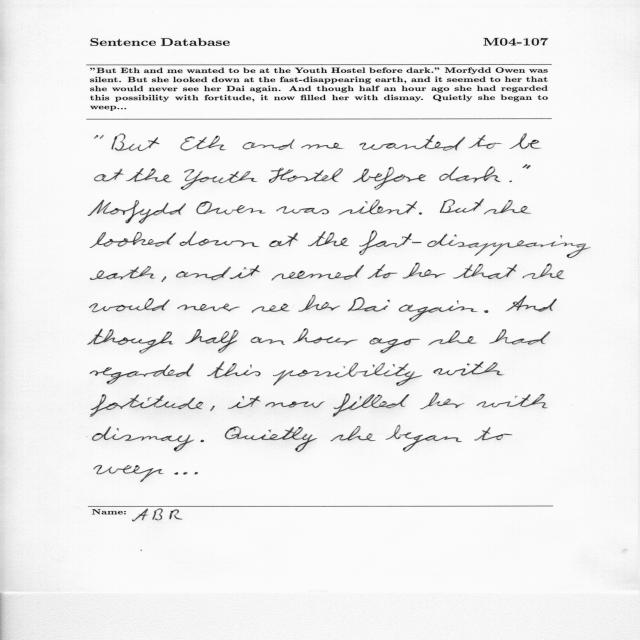word: (359, 231, 591, 258), (273, 362, 422, 386), (91, 394, 204, 417), (93, 427, 195, 452), (225, 426, 317, 452), (88, 200, 186, 224), (90, 364, 194, 385), (88, 329, 174, 354), (386, 425, 462, 452), (333, 393, 409, 417), (399, 300, 478, 322), (352, 167, 426, 190), (360, 135, 466, 151), (181, 169, 257, 190), (272, 265, 364, 281), (90, 232, 176, 248), (180, 231, 260, 247), (186, 329, 239, 353), (94, 466, 164, 483), (338, 200, 417, 215), (89, 298, 170, 312), (269, 168, 343, 183), (439, 166, 501, 183), (293, 329, 358, 345), (433, 362, 504, 376), (196, 201, 266, 215), (477, 394, 547, 408), (490, 329, 551, 345), (453, 264, 517, 279), (90, 266, 155, 280), (505, 295, 557, 312), (112, 133, 160, 151), (207, 362, 261, 378), (176, 267, 231, 281), (370, 338, 421, 353), (180, 135, 226, 151), (428, 331, 477, 346), (420, 393, 465, 409), (298, 295, 340, 312), (126, 168, 172, 183), (330, 426, 376, 441), (403, 263, 446, 279), (523, 264, 565, 280), (484, 200, 531, 214), (308, 231, 349, 247), (348, 297, 390, 312), (440, 199, 484, 213), (243, 139, 295, 150), (509, 133, 541, 149), (177, 304, 240, 312), (475, 427, 513, 440), (276, 206, 329, 215), (468, 135, 502, 149), (269, 233, 298, 248), (368, 264, 397, 279), (229, 265, 260, 279), (228, 396, 261, 409), (265, 401, 325, 408), (95, 169, 124, 181), (252, 304, 290, 313), (251, 337, 285, 345), (302, 143, 344, 149), (174, 472, 198, 475), (522, 164, 531, 169), (95, 135, 104, 139), (162, 276, 167, 282), (210, 406, 215, 411), (485, 310, 489, 313), (419, 212, 422, 215), (201, 440, 204, 442), (509, 181, 512, 182)
